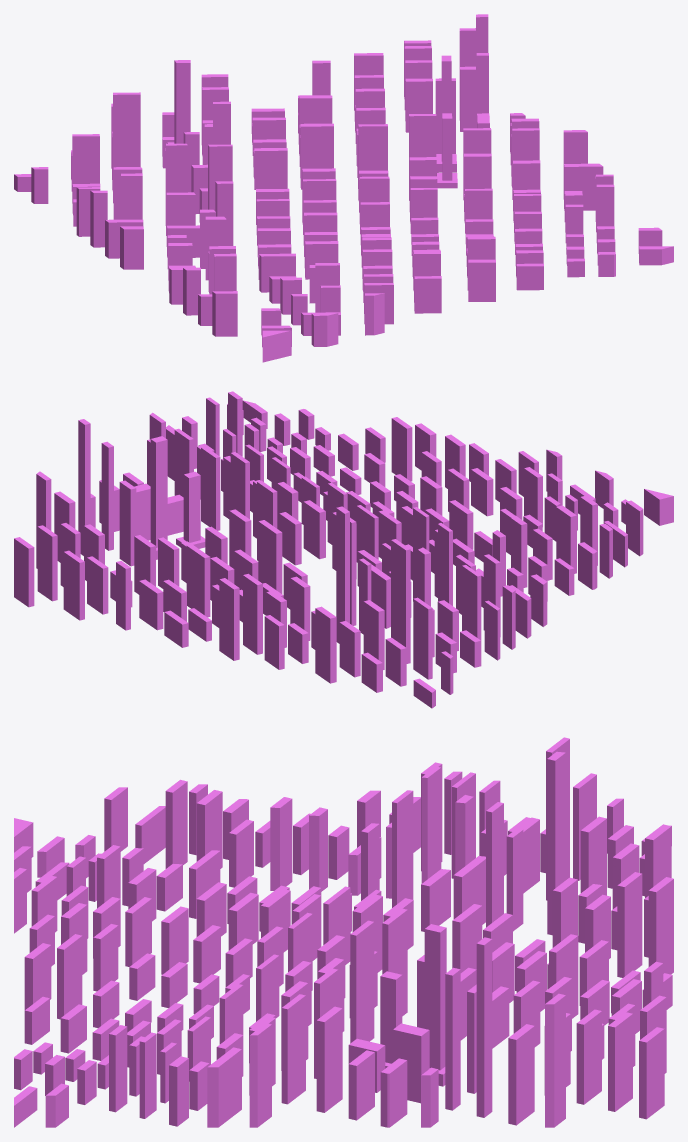
Rendered from buildings_00157.obj.
The picture shows the model from 3 angles, top to bottom: view 1: azimuth 30°, elevation 25°; view 2: azimuth 150°, elevation 25°; view 3: azimuth 270°, elevation 25°; orthographic projection. The views are drawn at different scales.
Size of the model in its own units: 1460 by 424 by 1447.
